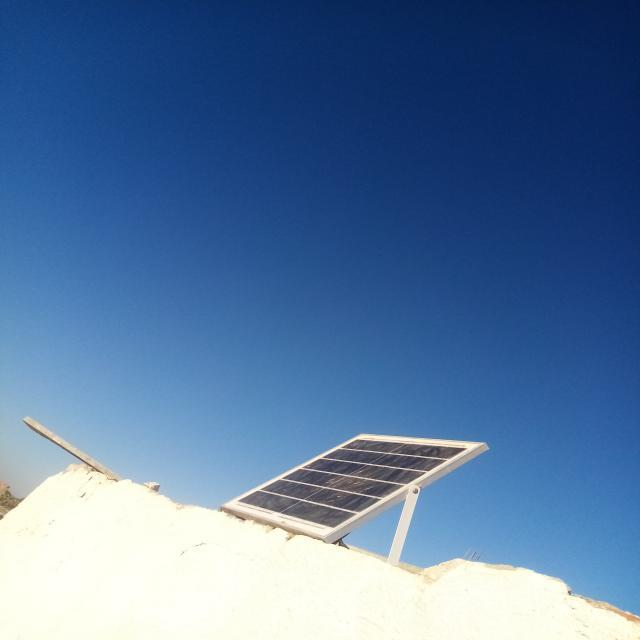faulty: (222, 434, 484, 538)
